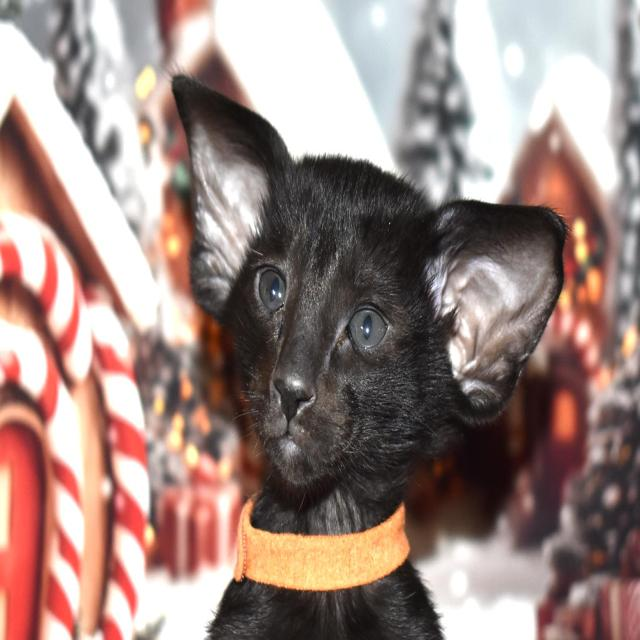Oriental: (167, 66, 571, 640)
